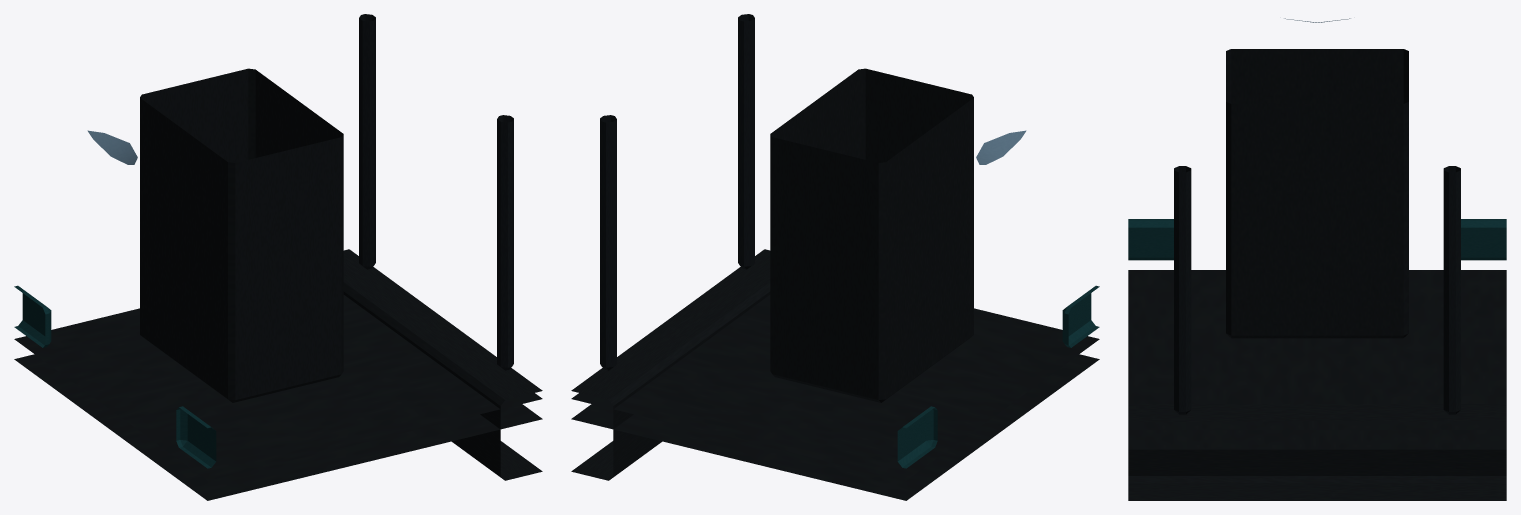
The model's file is cell_8.obj.
The picture shows the model from 3 angles, left to right: view 1: azimuth 30°, elevation 25°; view 2: azimuth 150°, elevation 25°; view 3: azimuth 270°, elevation 25°; orthographic projection. The views are drawn at different scales.
Parts seen in each view (by area): view 1: cell_8; view 2: cell_8; view 3: cell_8.
Boxes of the visible parts, left/top/right/bottom form: cell_8: left=14, top=14, right=542, bottom=500; cell_8: left=571, top=14, right=1099, bottom=500; cell_8: left=1128, top=18, right=1506, bottom=500.
Bounding box in the file's own units: 1 × 0.954 × 1.
